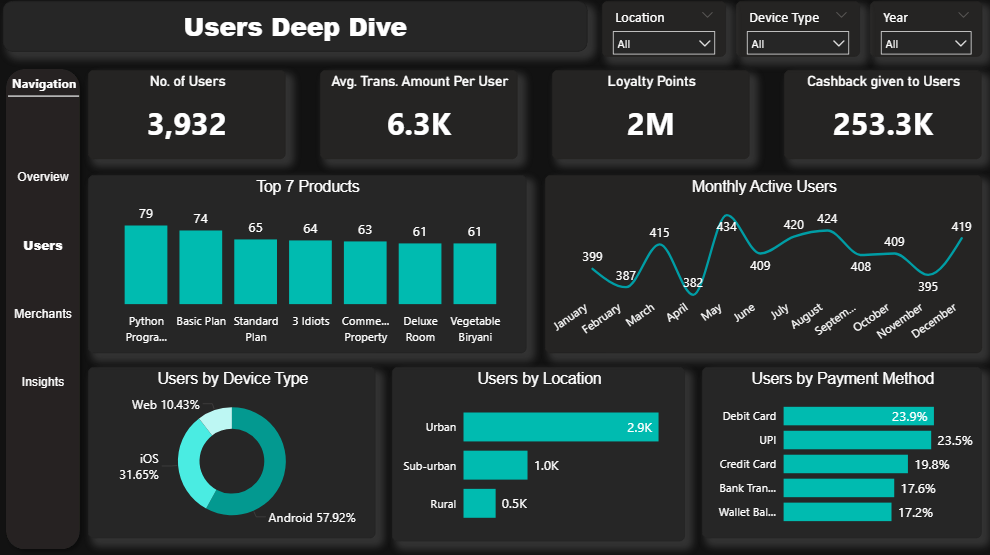

Layout of this report page (visuals, bound fields, positions):
{"tool":"powerbi","page":{"name":"Users Deep Dive","canvas":[1280,720],"ordinal":1},"visuals":[{"type":"textbox","box":[5.7,4.3,754,65.2],"z":0},{"type":"shape","box":[0,82.2,113.4,637.8],"z":0,"group":"g1"},{"type":"group","id":"g1","title":"Group 1","box":[0,82.2,113.4,637.8],"z":1000},{"type":"textbox","box":[11.3,93.5,93.5,31.2],"z":1000,"group":"g1"},{"type":"card","title":"No. of Users","fields":{"Values":["All Measures.No. of Users"]},"box":[114.8,93.2,255.1,114.8],"z":2000},{"type":"shape","box":[11.3,117.6,92.1,18.4],"z":2000,"group":"g1"},{"type":"card","title":"Avg. Trans. Amount Per User","fields":{"Values":["All Measures.Avg. Transaction Amount Per User"]},"box":[414.3,93.2,255.1,114.8],"z":3000},{"type":"actionButton","box":[5.7,211.2,103.5,39.7],"z":3000,"group":"g1"},{"type":"card","title":"Loyalty Points","fields":{"Values":["All Measures.Total Loyalty Points"]},"box":[713.9,93.2,255.1,114.8],"z":4000},{"type":"actionButton","box":[5.7,299.5,103.5,39.7],"z":4000,"group":"g1"},{"type":"card","title":"Cashback given to Users","fields":{"Values":["All Measures.Total Cashback Paid"]},"box":[1013.4,93.2,255.1,114.8],"z":5000},{"type":"actionButton","box":[5.7,387.9,103.5,39.7],"z":5000,"group":"g1"},{"type":"actionButton","box":[5.7,476.2,103.5,39.7],"z":6000,"group":"g1"},{"type":"donutChart","title":"Users by Device Type","fields":{"Category":["Digital_Wallet_Data.Device Type"],"Y":["All Measures.No. of Users"]},"box":[114.8,476.2,371.3,221.1],"z":6000},{"type":"barChart","title":"Users by Location","fields":{"Category":["Digital_Wallet_Data.Location"],"Y":["All Measures.No. of Users"]},"box":[507.4,476.2,378.4,225.4],"z":7000},{"type":"clusteredColumnChart","title":"Top 7 Products","fields":{"Category":["Digital_Wallet_Data.Product Name"],"Y":["All Measures.No. of Users"]},"box":[114.8,228.2,565.5,229.6],"z":8000},{"type":"clusteredBarChart","title":"Users by Payment Method","fields":{"Category":["Digital_Wallet_Data.Payment Method"],"Y":["All Measures.No. of Users"]},"box":[907.1,476.2,361.4,221.1],"z":9000},{"type":"lineChart","title":"Monthly Active Users","fields":{"Category":["Digital_Wallet_Data.Transaction Date.Variation.Date Hierarchy.Month"],"Y":["All Measures.No. of Users"]},"box":[704.4,228.2,564.1,229.6],"z":10000},{"type":"slicer","fields":{"Values":["Digital_Wallet_Data.Transaction Date.Variation.Date Hierarchy.Year"]},"box":[1123.9,4.3,144.6,72.3],"z":11000},{"type":"slicer","fields":{"Values":["Digital_Wallet_Data.Device Type"]},"box":[951,4.3,160.2,72.3],"z":12000},{"type":"slicer","fields":{"Values":["Digital_Wallet_Data.Location"]},"box":[778.1,4.3,160.2,72.3],"z":13000}]}

Visuals, with their boxes in screenshot pixels (x1, y1, x2, y2), scaled from the page's 1280x720 canvas onto the 990x555 screenshot:
textbox: locate(4, 3, 588, 54)
shape: locate(0, 63, 88, 554)
"Group 1" group: locate(0, 63, 88, 554)
textbox: locate(9, 72, 81, 96)
"No. of Users" card: locate(89, 72, 286, 160)
shape: locate(9, 91, 80, 105)
"Avg. Trans. Amount Per User" card: locate(320, 72, 518, 160)
actionButton: locate(4, 163, 84, 193)
"Loyalty Points" card: locate(552, 72, 749, 160)
actionButton: locate(4, 231, 84, 261)
"Cashback given to Users" card: locate(784, 72, 981, 160)
actionButton: locate(4, 299, 84, 330)
actionButton: locate(4, 367, 84, 398)
"Users by Device Type" donutChart: locate(89, 367, 376, 538)
"Users by Location" barChart: locate(392, 367, 685, 541)
"Top 7 Products" clusteredColumnChart: locate(89, 176, 526, 353)
"Users by Payment Method" clusteredBarChart: locate(702, 367, 981, 538)
"Monthly Active Users" lineChart: locate(545, 176, 981, 353)
slicer - Digital_Wallet_Data.Transaction Date.Variation.Date Hierarchy.Year: locate(869, 3, 981, 59)
slicer - Digital_Wallet_Data.Device Type: locate(736, 3, 859, 59)
slicer - Digital_Wallet_Data.Location: locate(602, 3, 726, 59)
